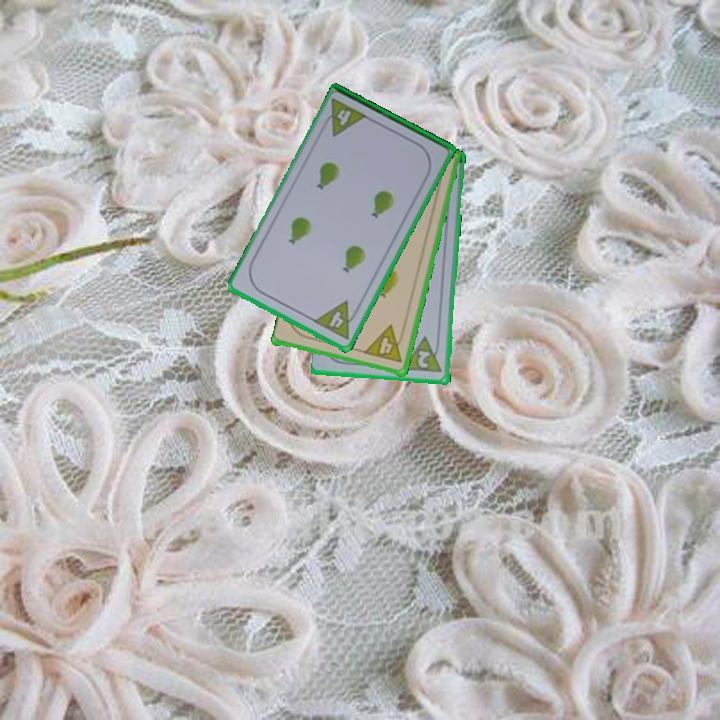2p: (414, 347, 433, 371)
4p: (310, 297, 363, 343), (318, 95, 371, 139), (361, 323, 408, 366)
